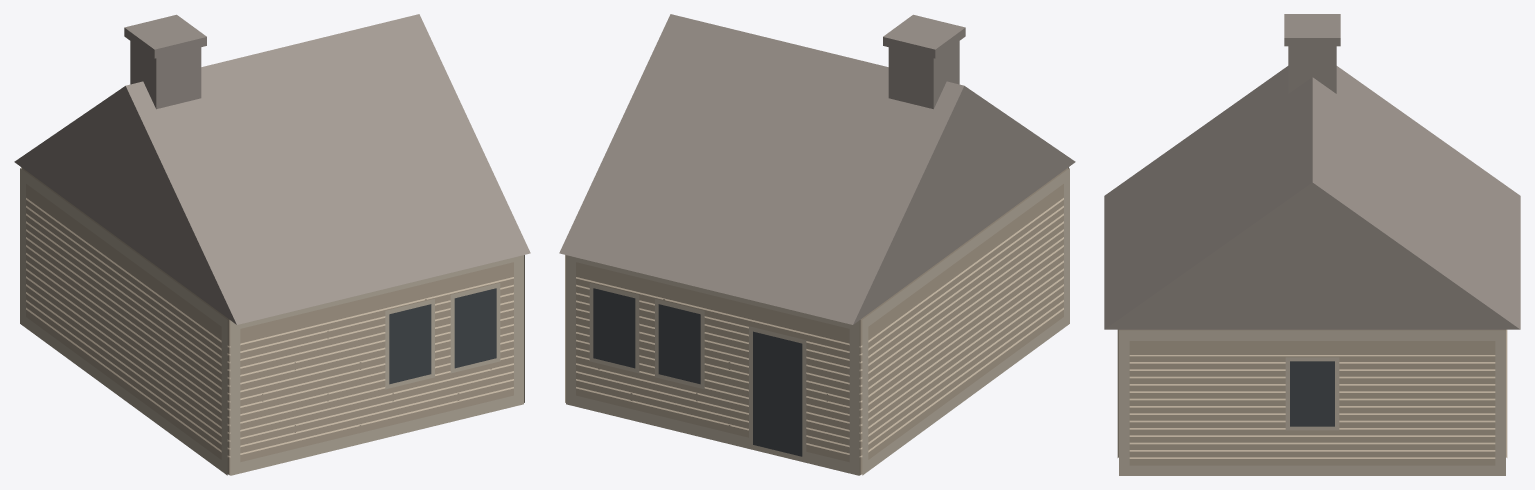
The model's file is recon_1835_north_d3_042__inferred_1835.glb.
3 renders of one model, left to right at view 1: azimuth 30°, elevation 25°; view 2: azimuth 150°, elevation 25°; view 3: azimuth 270°, elevation 25°, orthographic. The views are drawn at different scales.
Visible parts, largest first — view 1: recon_1835_north_d3_042__inferred_1835; view 2: recon_1835_north_d3_042__inferred_1835; view 3: recon_1835_north_d3_042__inferred_1835.
Part boxes in pixels (left/top/right/bottom): recon_1835_north_d3_042__inferred_1835: left=14, top=14, right=530, bottom=475; recon_1835_north_d3_042__inferred_1835: left=559, top=14, right=1075, bottom=475; recon_1835_north_d3_042__inferred_1835: left=1104, top=14, right=1520, bottom=475.
Size of the model in its own units: 5.57 by 6.37 by 7.21.
